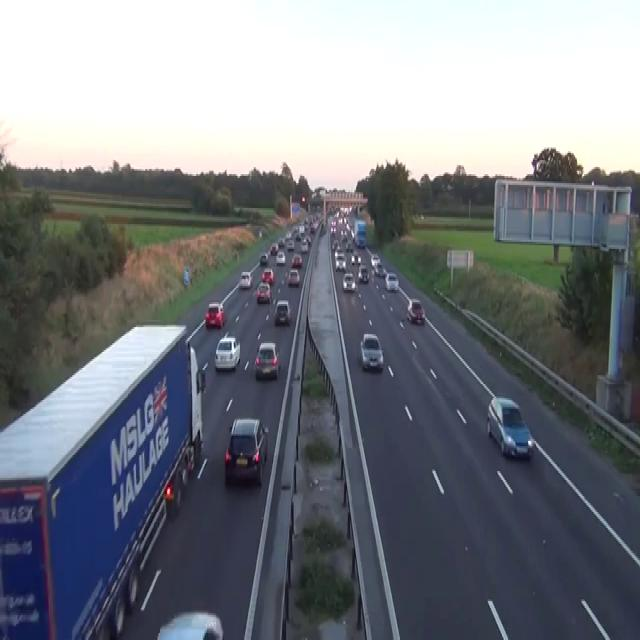Car: (486, 394, 534, 458), (224, 416, 268, 485), (108, 551, 139, 638), (156, 610, 223, 638), (0, 590, 39, 638), (214, 332, 240, 370), (254, 341, 279, 379), (360, 332, 383, 372), (204, 302, 225, 327), (406, 297, 425, 323), (274, 299, 291, 325), (256, 281, 271, 302), (385, 272, 399, 292), (342, 272, 356, 292), (238, 270, 252, 288), (287, 267, 300, 286), (261, 266, 274, 284), (334, 252, 346, 270), (358, 265, 369, 283), (374, 263, 386, 277), (370, 252, 380, 268), (291, 252, 302, 266), (350, 252, 361, 265), (275, 251, 285, 265), (356, 233, 365, 247), (331, 238, 340, 251), (269, 242, 278, 254), (300, 238, 308, 251), (259, 253, 268, 263), (286, 240, 294, 251), (345, 240, 353, 251), (298, 224, 305, 235), (334, 246, 343, 254), (278, 237, 285, 247), (309, 224, 315, 233), (305, 234, 311, 243), (294, 231, 300, 240), (285, 230, 291, 238), (258, 230, 262, 238)
Truck: (0, 322, 204, 638), (354, 219, 366, 247)
